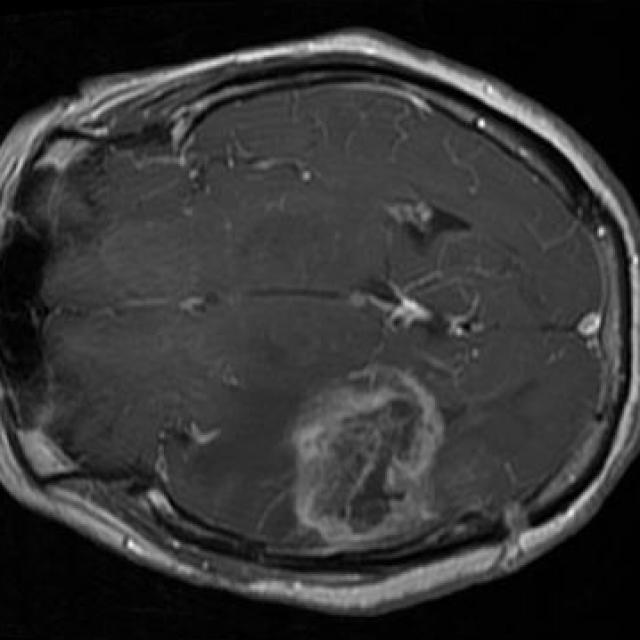glioma: (292, 364, 446, 551)
